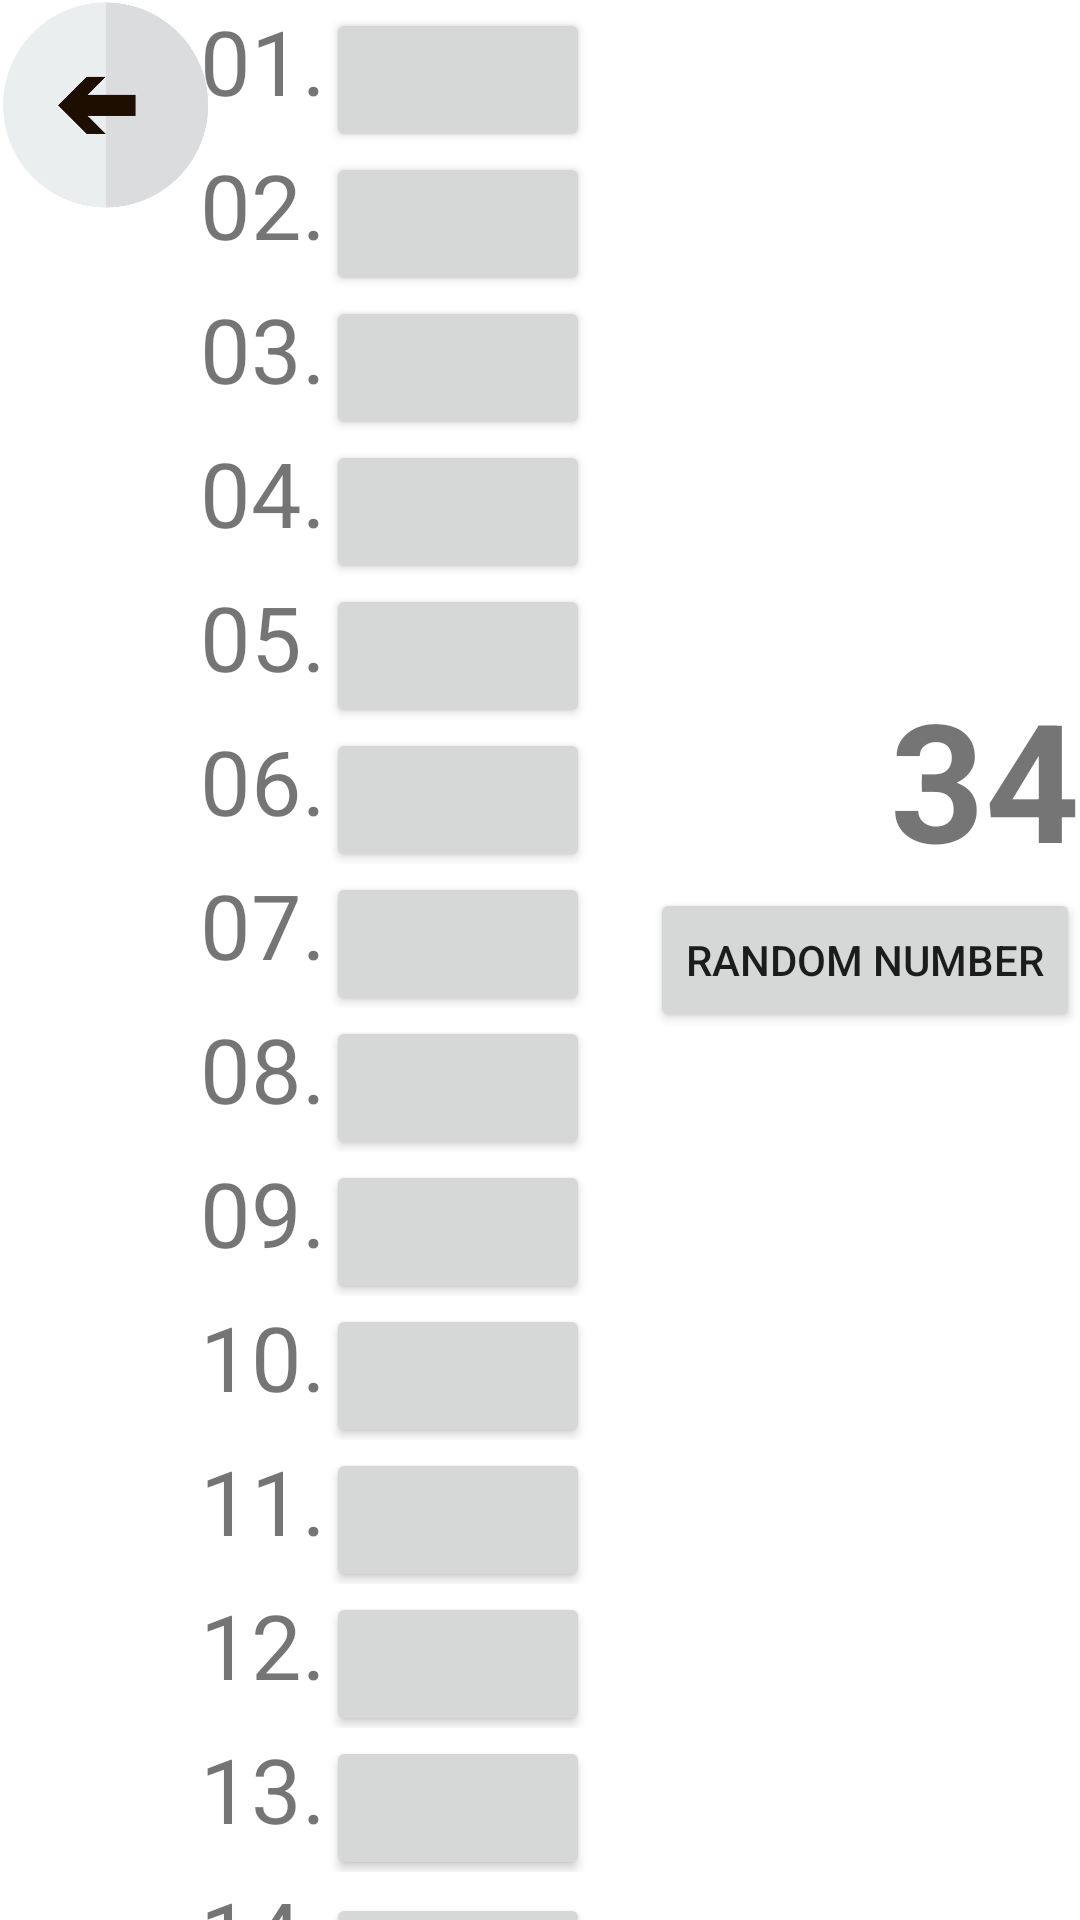

Where to tap for icons on this 1080px x 1920px app screen, as [x,y]:
arrow: [133,106]
